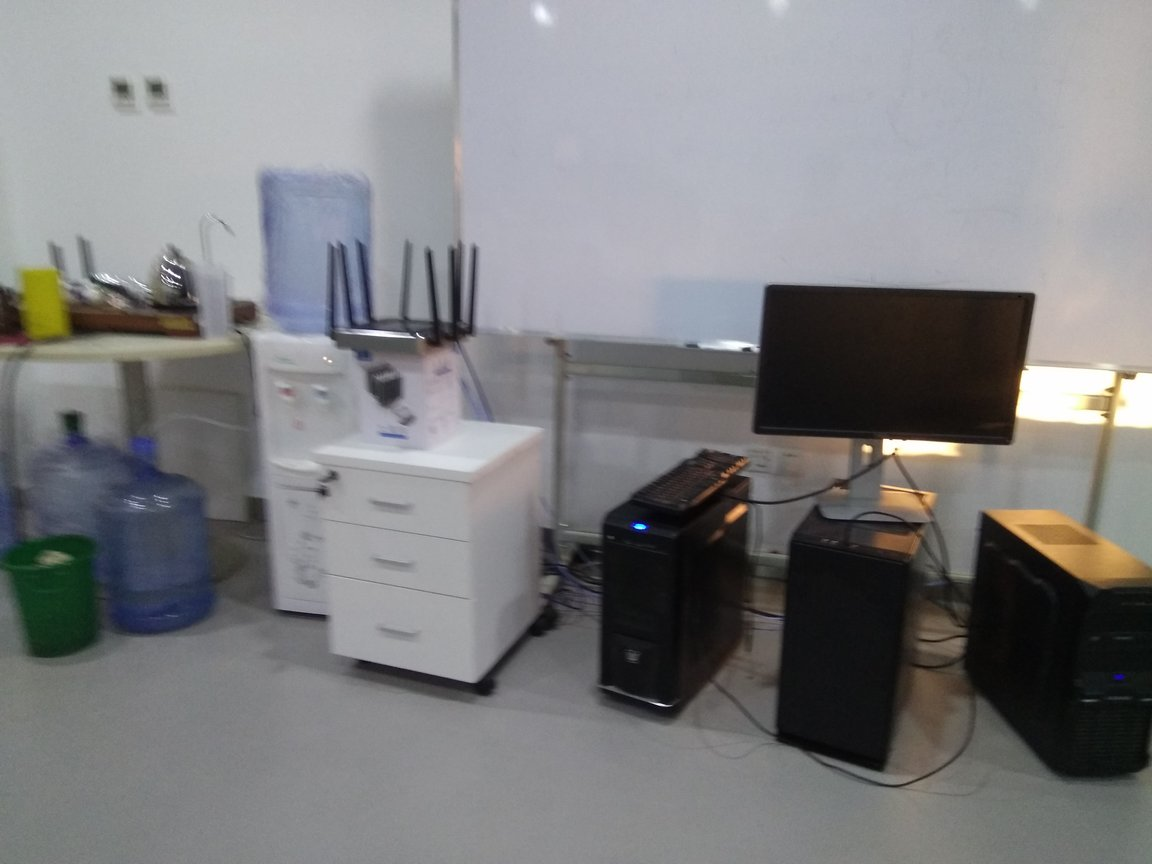computer: (774, 470, 933, 789), (977, 495, 1152, 781), (602, 464, 770, 747)
drawer chest: (318, 412, 552, 714)
monitor: (755, 281, 1034, 533)
scuttlebutt: (258, 163, 383, 354), (106, 438, 218, 637), (26, 405, 148, 584)
water dispenser: (245, 320, 405, 647)
